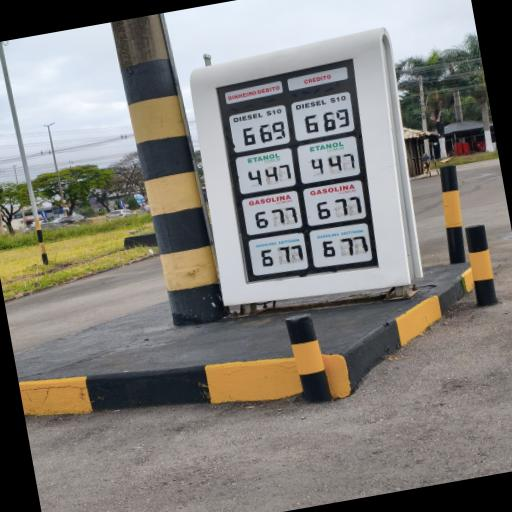ETANOL: (242, 149, 286, 169)
GASOLINA AD: (252, 232, 302, 249)
GASOLINA C: (246, 190, 297, 210)
S10: (230, 105, 283, 124)
placa: (225, 97, 310, 284)
preco: (235, 116, 288, 148), (242, 161, 293, 190), (250, 205, 301, 230), (258, 243, 307, 268)
